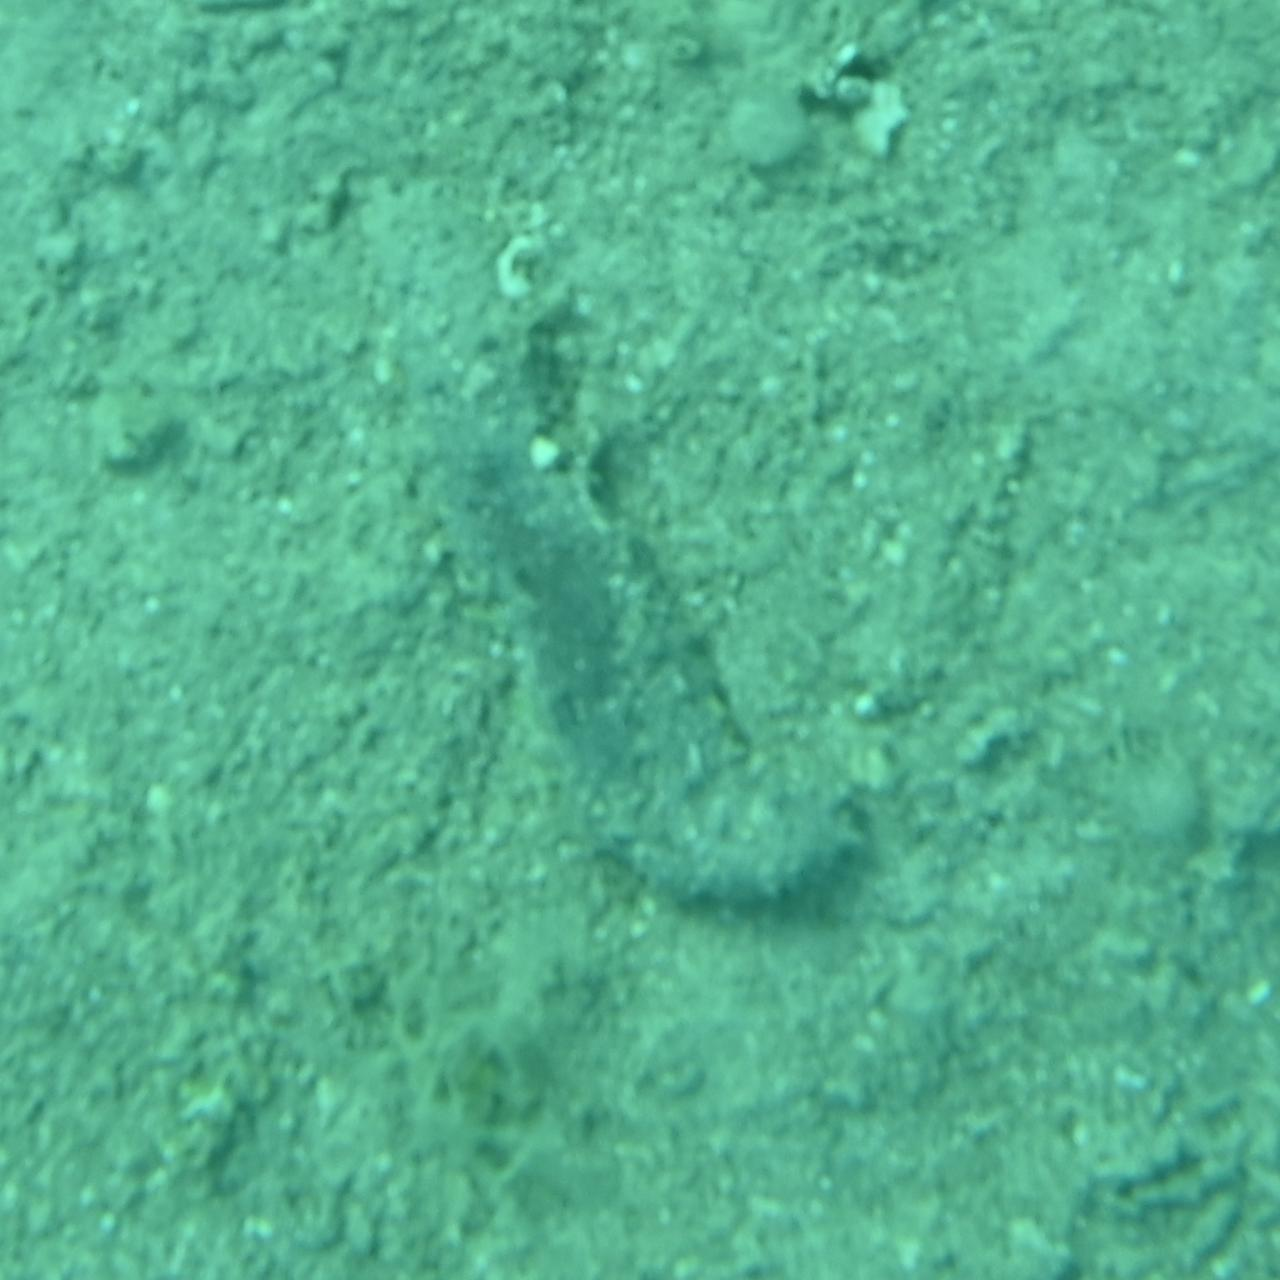Holothuria tubulosa: (385, 362, 895, 918)
